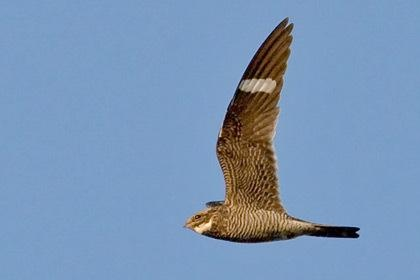bird: (183, 18, 367, 243)
